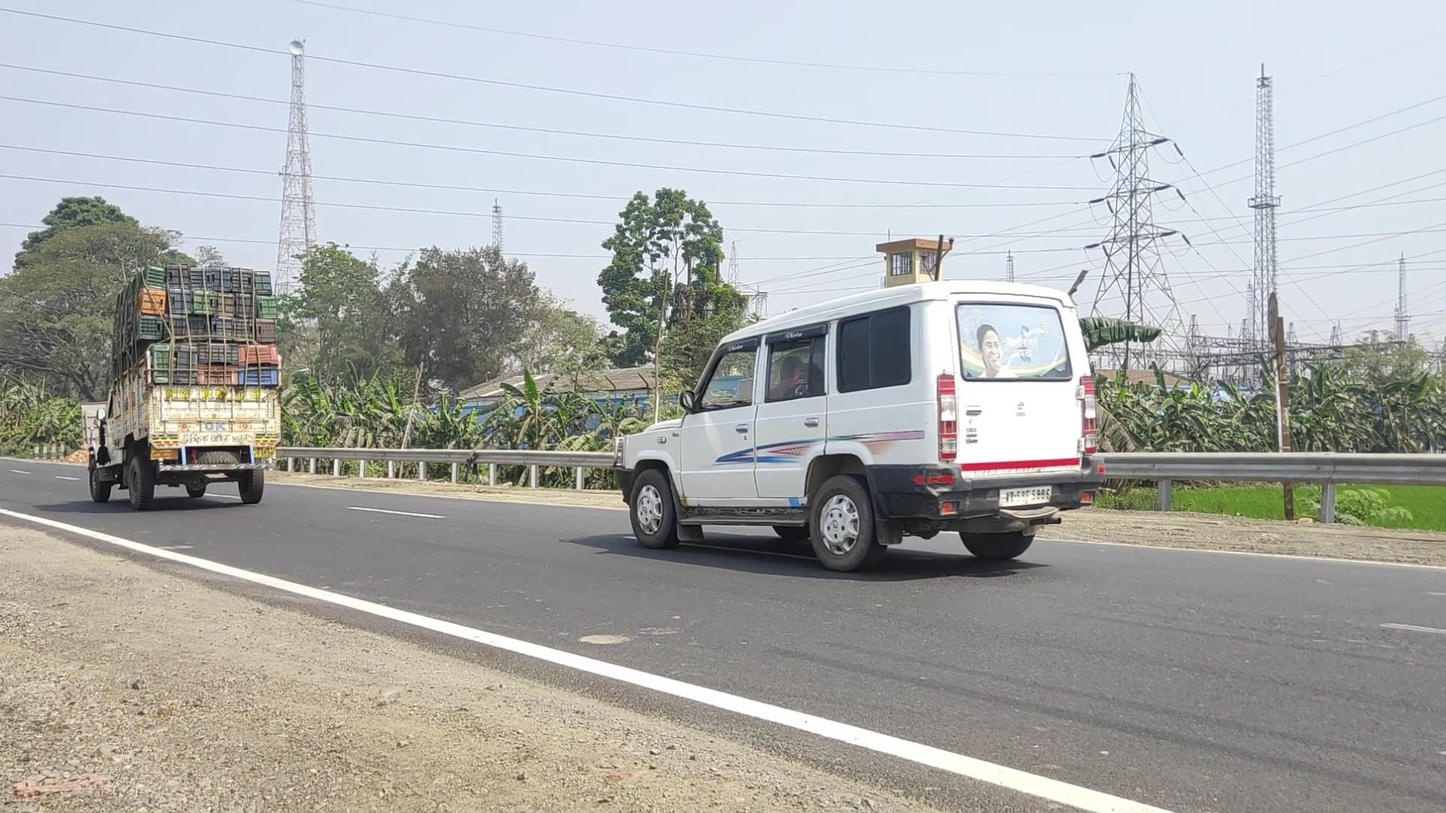car: (614, 281, 1106, 572)
van: (88, 263, 282, 510)
